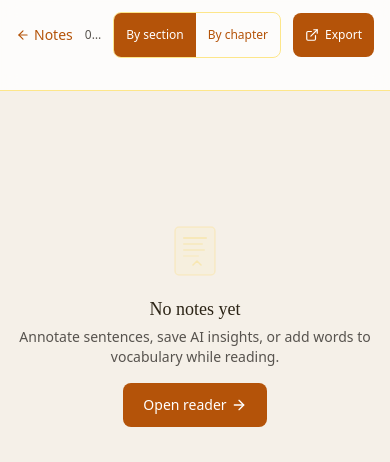
a book with nothing saved reports it instead of downloading an empty file
Click the button "Export".
click(334, 35)  # box [293,13,374,57]
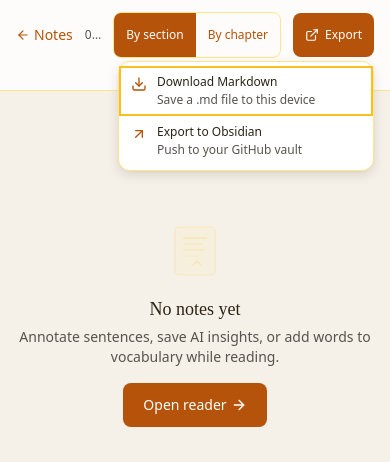
Click the menu item "Download Markdown Save a .md file to this device".
click(246, 91)  # box [119,66,373,116]
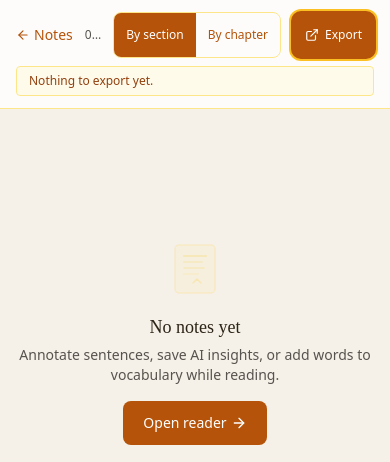
Expected: the text "Nothing to export yet." is shown, [16,66,374,96]
